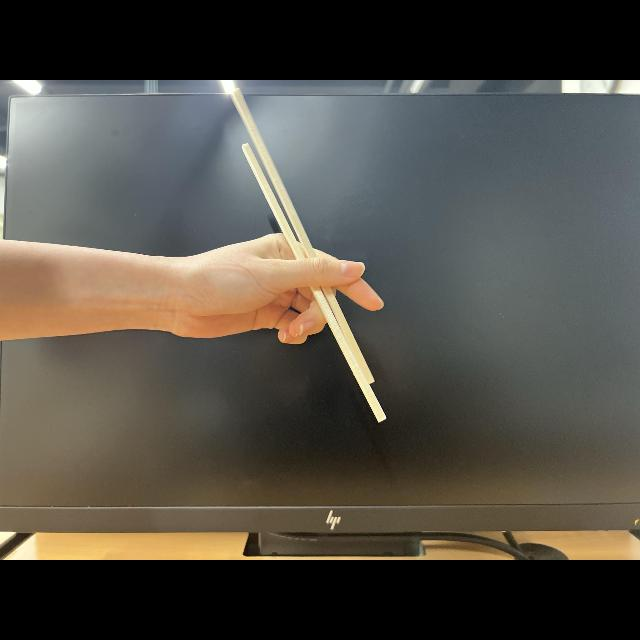stick: (178, 98, 390, 422)
